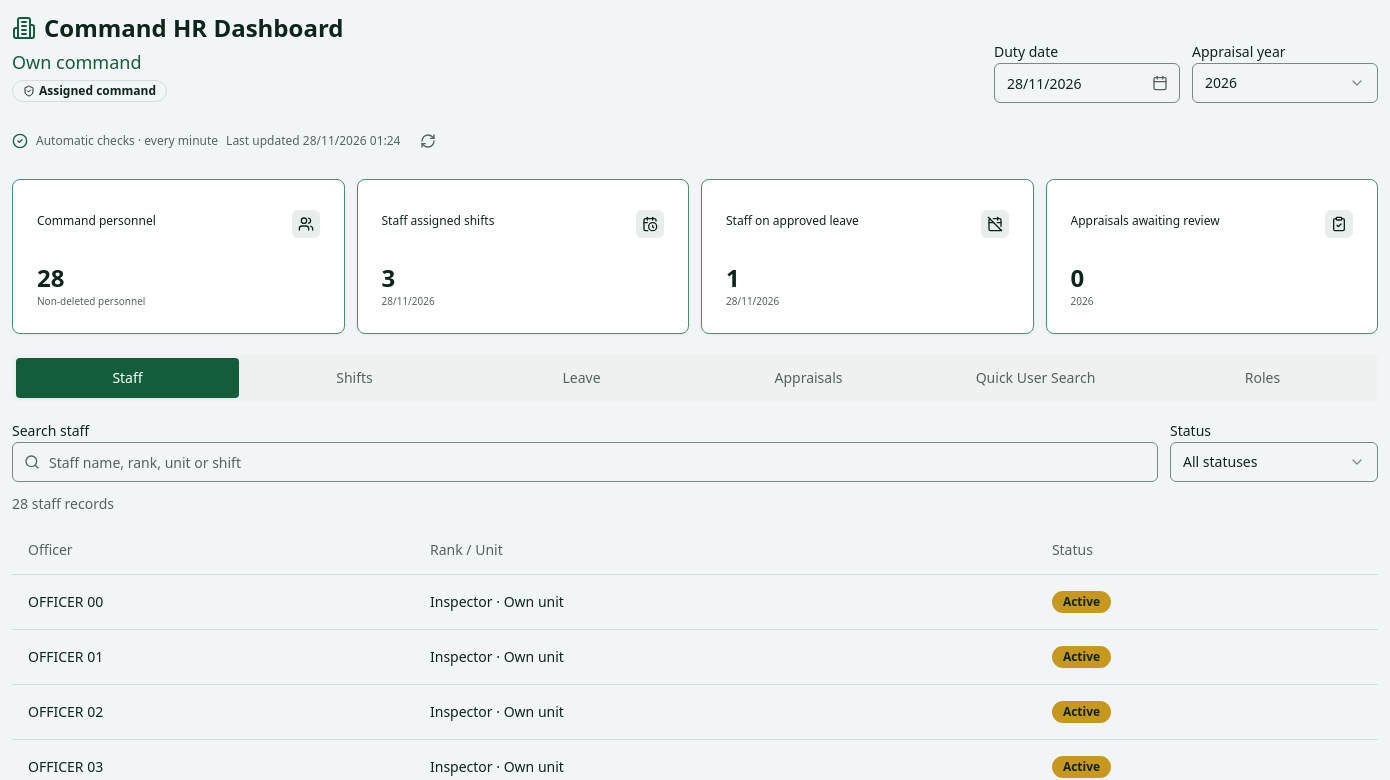
command workforce access and records › searches real returned rows without reducing headline totals
Expected: the text "Own command" is shown, [12, 50, 142, 74]
Type "OFFICER 27" into the field labelled "Search staff".
click(585, 462); type("OFFICER 27")  # box [12, 442, 1158, 482]
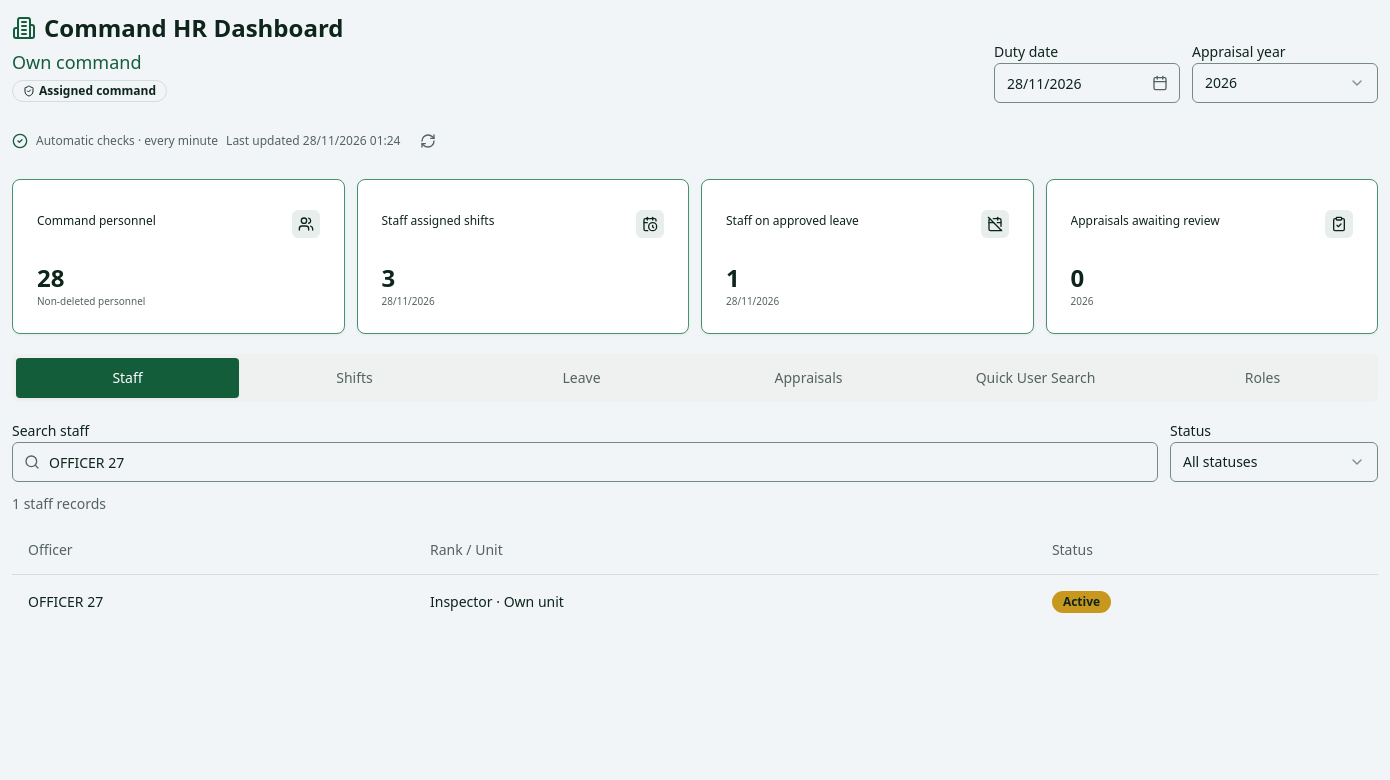
Expected: the text "28" is shown, [37, 262, 64, 294]
Now the text "OFFICER 27" is shown 2 times
Now the text "OFFICER 00" is gone
